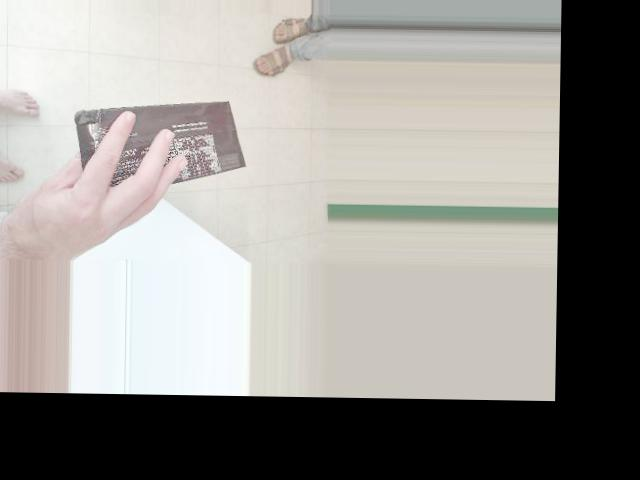chocolate: (133, 6, 246, 186)
